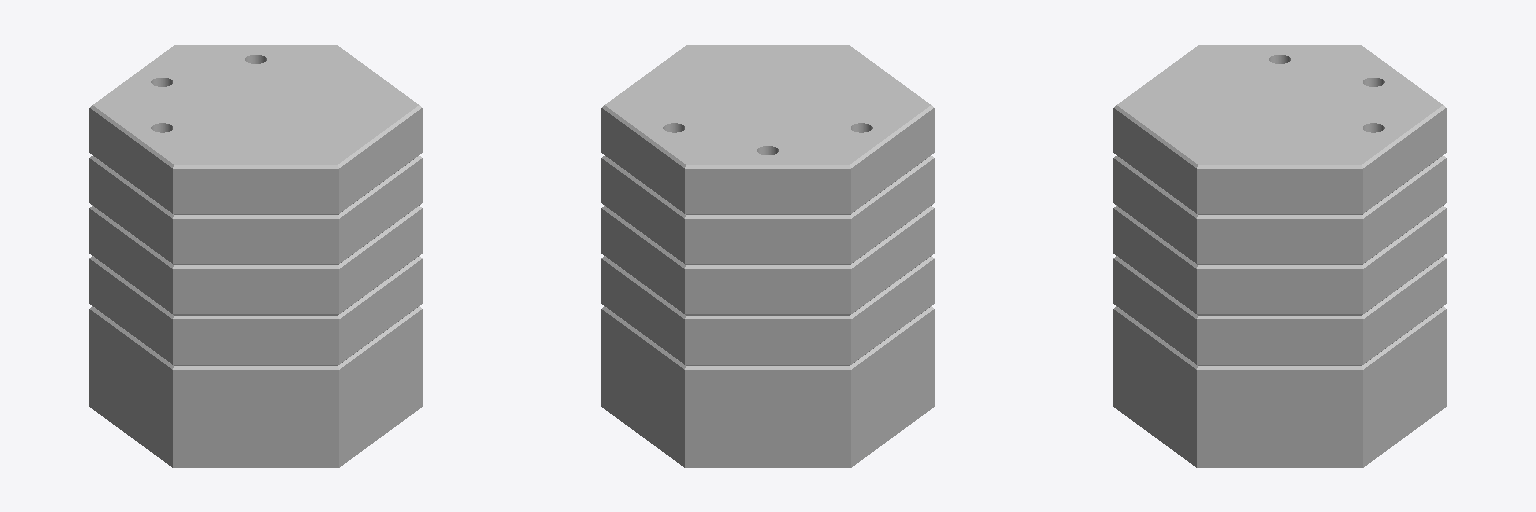
The model's file is lvl5A.obj.
3 renders of one model, left to right at view 1: azimuth 30°, elevation 25°; view 2: azimuth 150°, elevation 25°; view 3: azimuth 270°, elevation 25°, orthographic.
Visible parts, largest first — view 1: Lvl5A-3_(Mono-NoMags); view 2: Lvl5A-3_(Mono-NoMags); view 3: Lvl5A-3_(Mono-NoMags).
Boxes of the visible parts, x1,y1,x2,y2 form: Lvl5A-3_(Mono-NoMags): [89, 45, 422, 467]; Lvl5A-3_(Mono-NoMags): [601, 45, 934, 467]; Lvl5A-3_(Mono-NoMags): [1113, 45, 1446, 467].
Bounding box in the file's own units: 3.13 × 3.62 × 3.62.